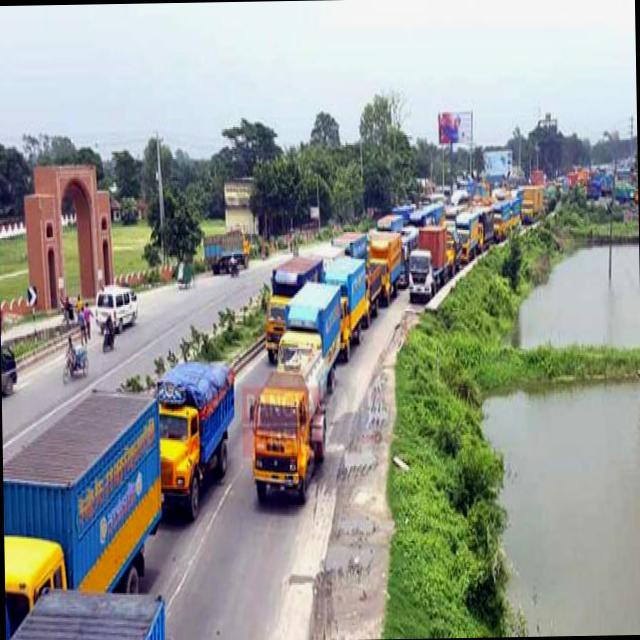motorcycle: (99, 321, 112, 346), (226, 258, 237, 272)
truck: (1, 383, 163, 609), (244, 344, 328, 498), (156, 355, 234, 514), (4, 579, 166, 638), (260, 252, 322, 355), (273, 277, 340, 372), (326, 252, 366, 356), (407, 219, 448, 294), (368, 225, 400, 302), (93, 280, 136, 325), (201, 220, 247, 262), (455, 206, 477, 257), (518, 182, 542, 222), (331, 226, 366, 253), (475, 200, 492, 246), (444, 226, 460, 270), (492, 197, 508, 234)
